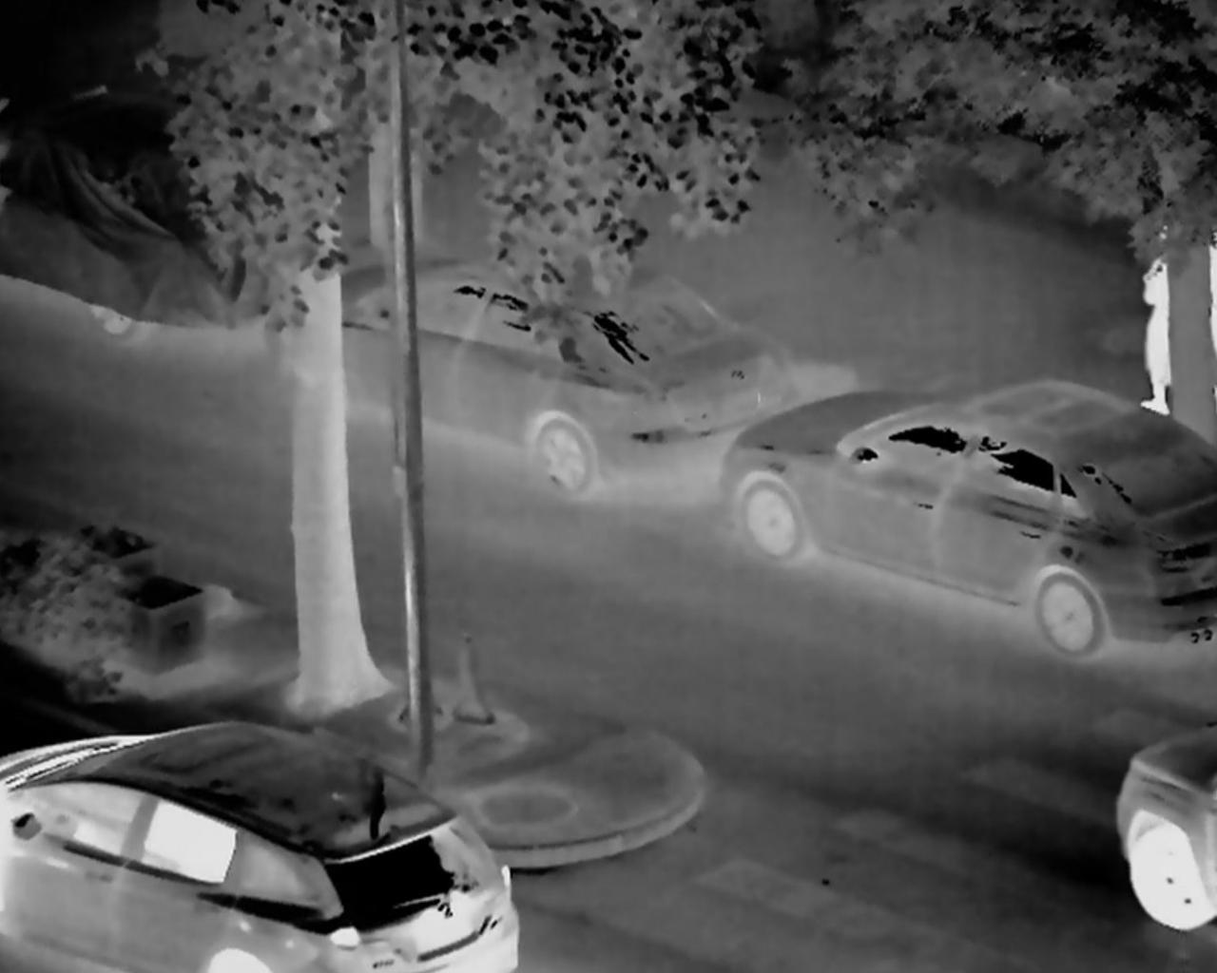person: (1131, 226, 1171, 413)
